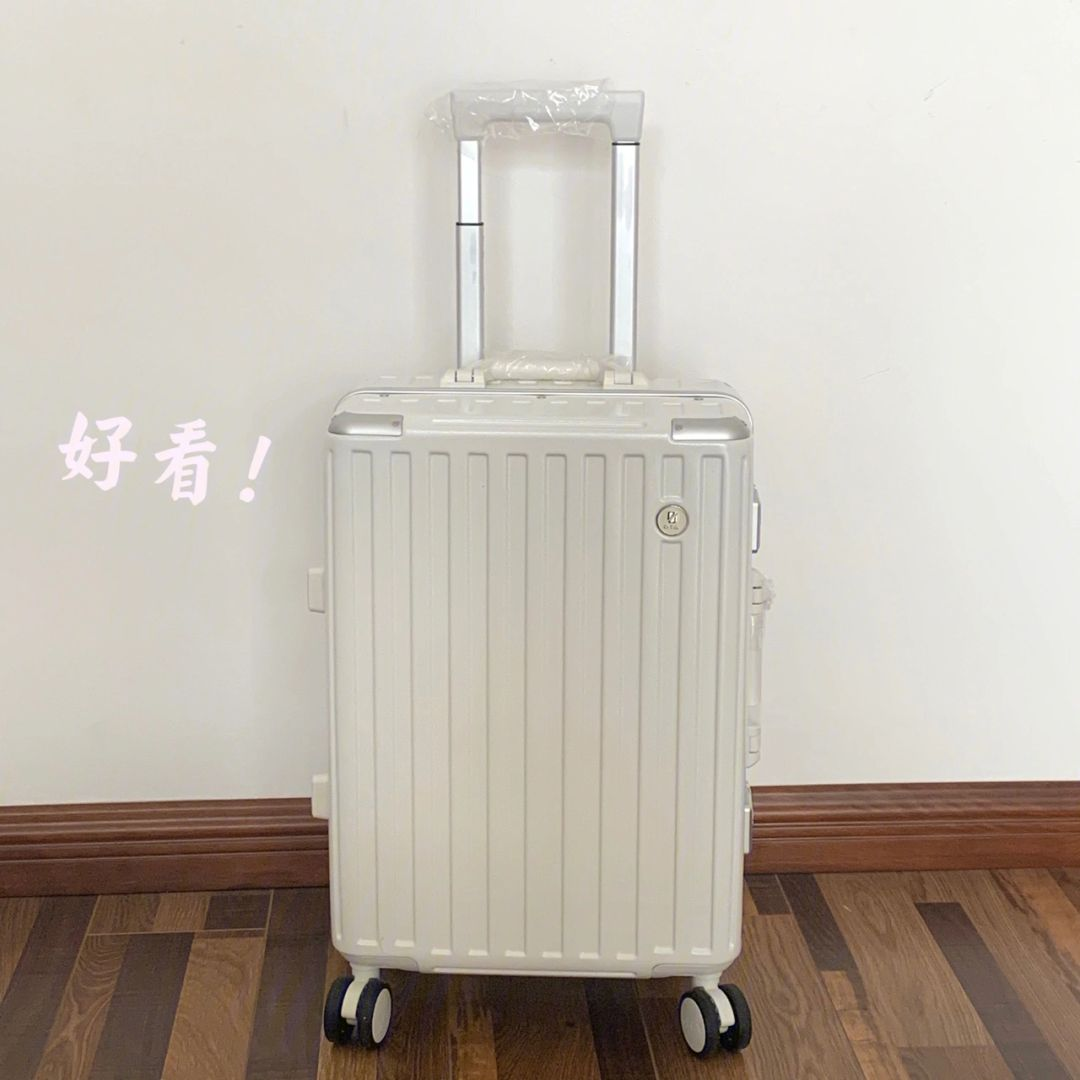box: (325, 374, 752, 980)
handle: (437, 357, 650, 391), (742, 567, 772, 768)
wheel: (680, 983, 753, 1059), (323, 976, 393, 1046)
